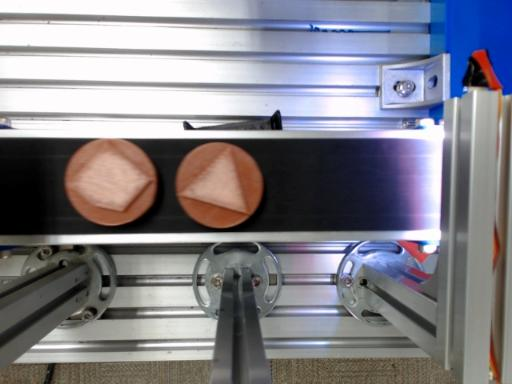Brown_Waper: (64, 139, 158, 226), (176, 142, 263, 227)
